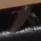cockroach: (8, 6, 33, 32)
